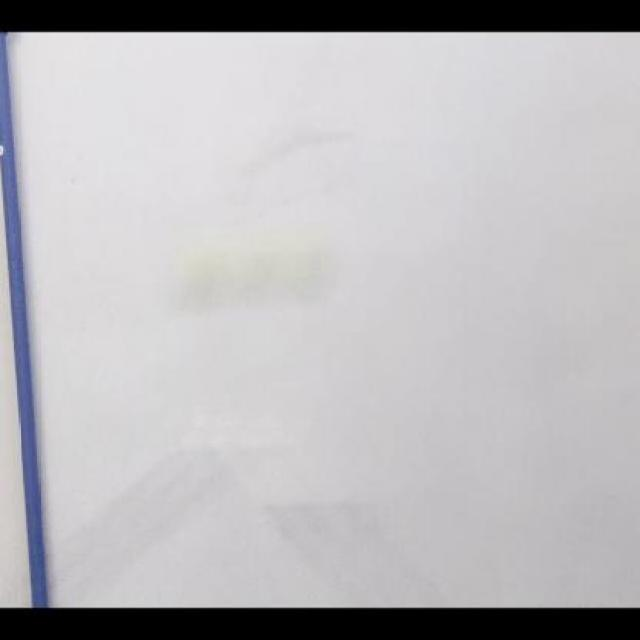baseball: (164, 220, 331, 325)
